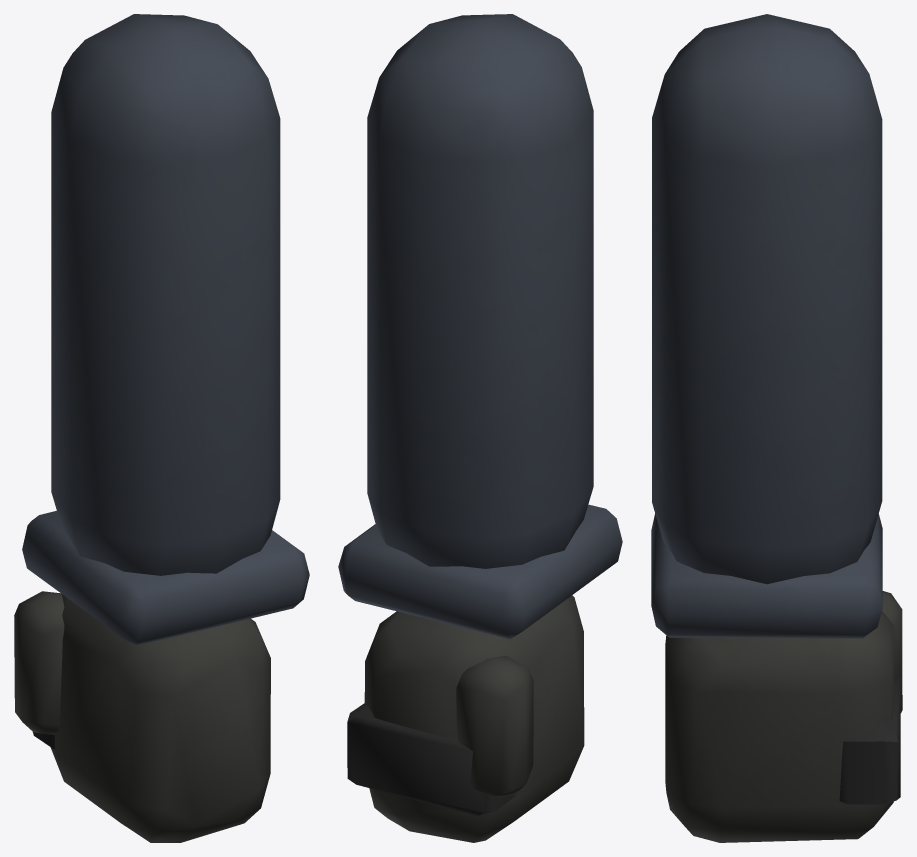
File: SM_OperatorBForearm_LOD1.fbx
The picture shows the model from 3 angles, left to right: view 1: azimuth 30°, elevation 25°; view 2: azimuth 150°, elevation 25°; view 3: azimuth 270°, elevation 25°; orthographic projection.
Parts seen in each view (by area): view 1: SM_OperatorBForearm_LOD1; view 2: SM_OperatorBForearm_LOD1; view 3: SM_OperatorBForearm_LOD1.
Part boxes in pixels (<box>): SM_OperatorBForearm_LOD1: <box>14,14,309,842</box>; SM_OperatorBForearm_LOD1: <box>338,14,622,842</box>; SM_OperatorBForearm_LOD1: <box>651,14,902,842</box>.
Size of the model in its own units: 0.0896 by 0.3555 by 0.1014.
1 material, 1 textured.
